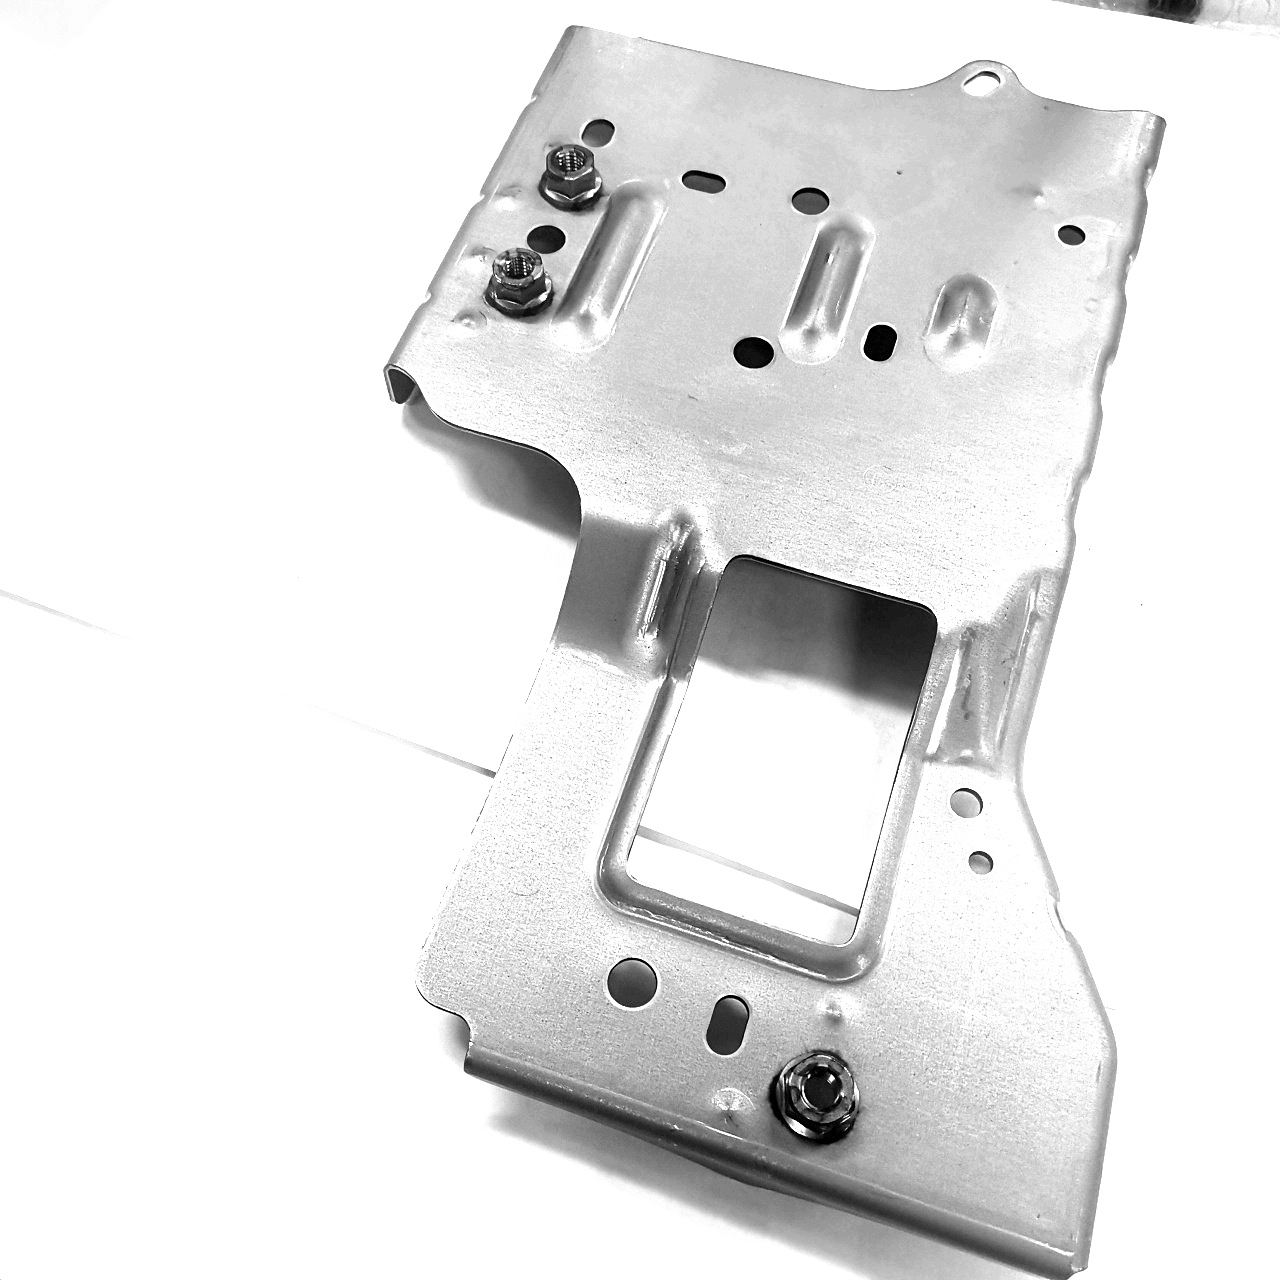dog: (762, 1042, 862, 1148), (532, 138, 610, 218), (481, 241, 556, 324)
